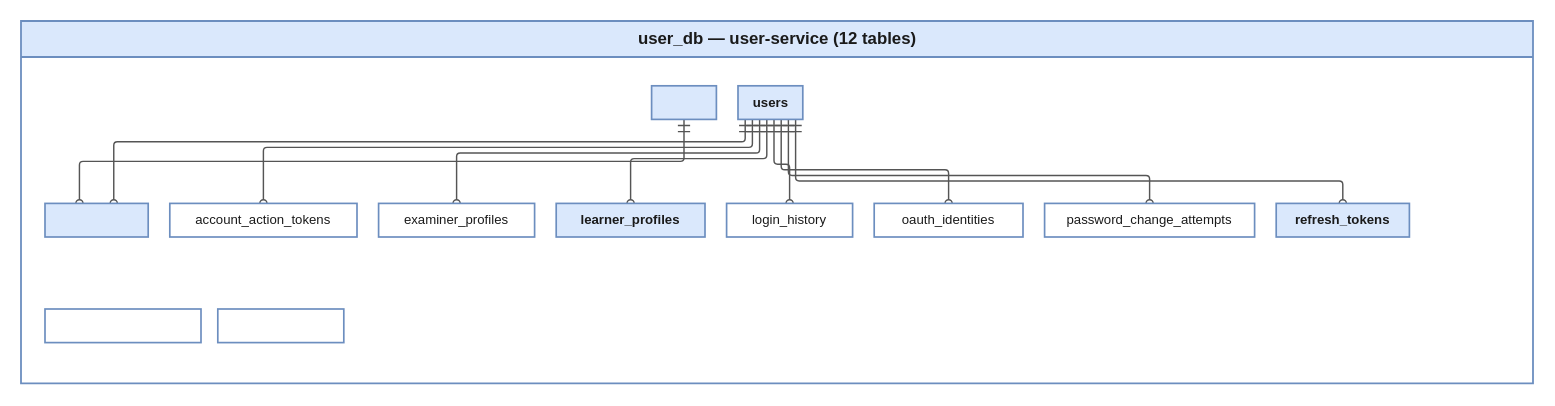
Some shapes in this 1555 by 406 pixel diagram are drawn without their labels. Here are the shapes that lost their labels. From the top down, the centre of each, then its label:
At pixel 683 102: "roles".
At pixel 96 219: "user_roles".
At pixel 122 325: "auth_audit_events".
At pixel 280 325: "outbox_events".
